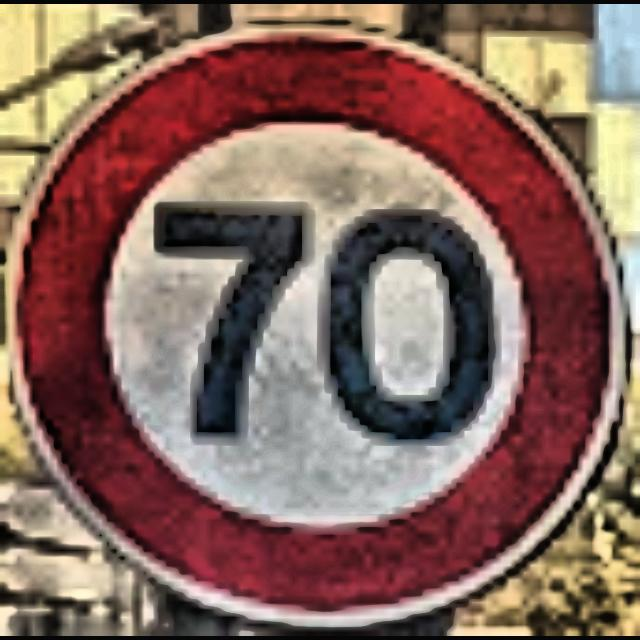speed_70: (0, 4, 640, 636)
